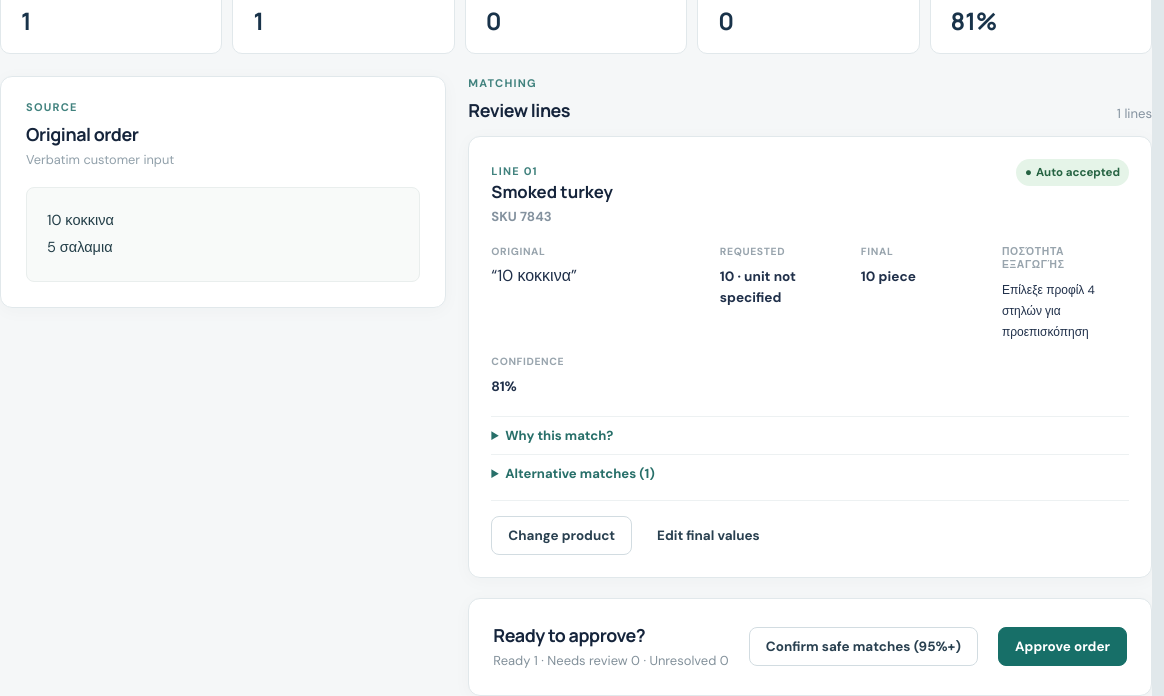
Scenario: offers bulk confirmation when all generated lines are auto accepted
(page scrolled)
Click the button "Confirm safe matches (95%+)" at point(863, 647), box left=749, top=627, right=978, bottom=666
(page scrolled)
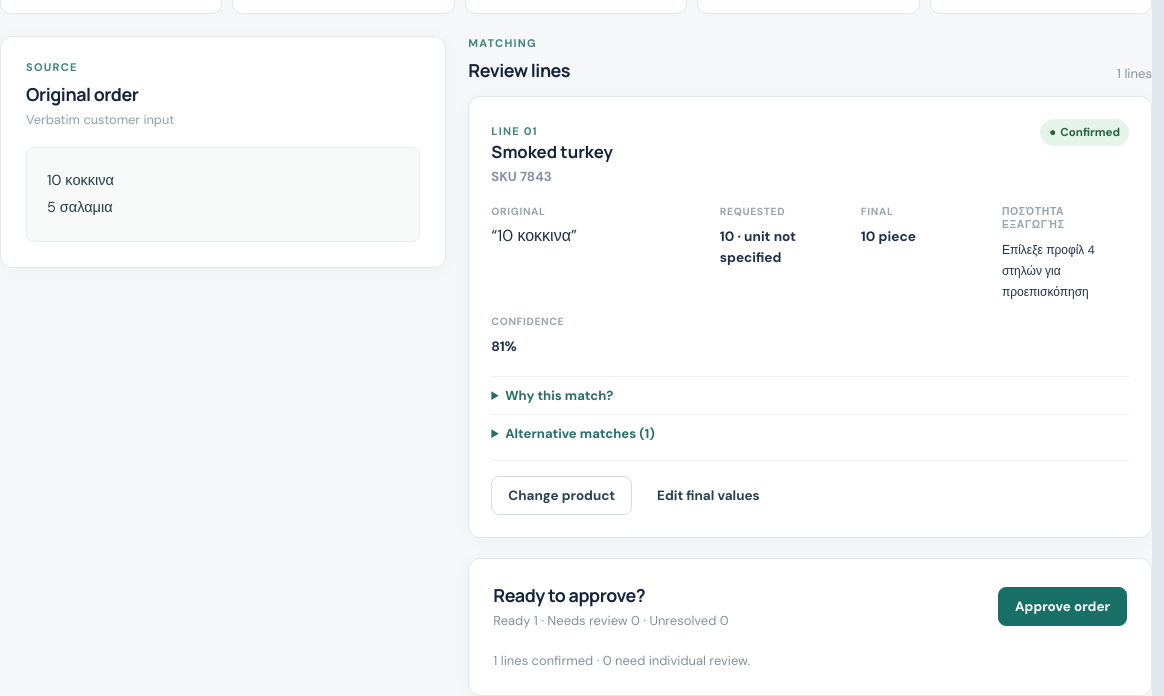
Result: the text "1 lines confirmed · 0 need individual review." is shown at left=493, top=652, right=750, bottom=669
Result: the button "Confirm safe matches (95%+)" is gone
